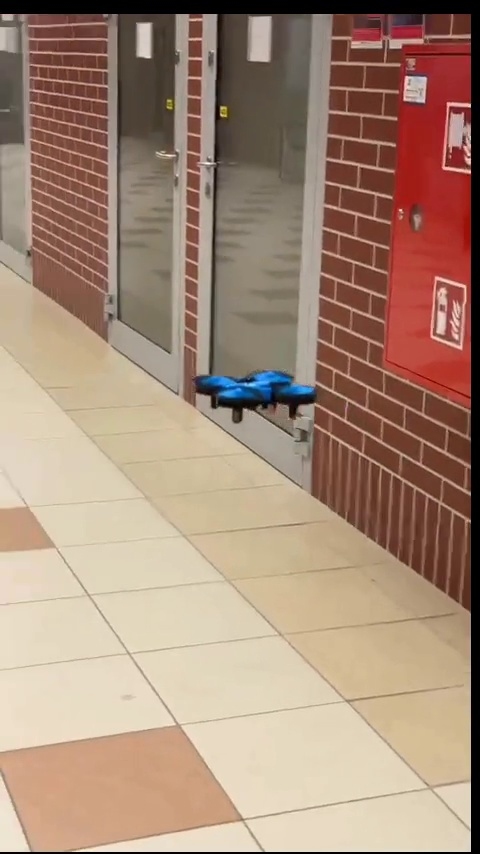drone: (198, 373, 323, 423)
